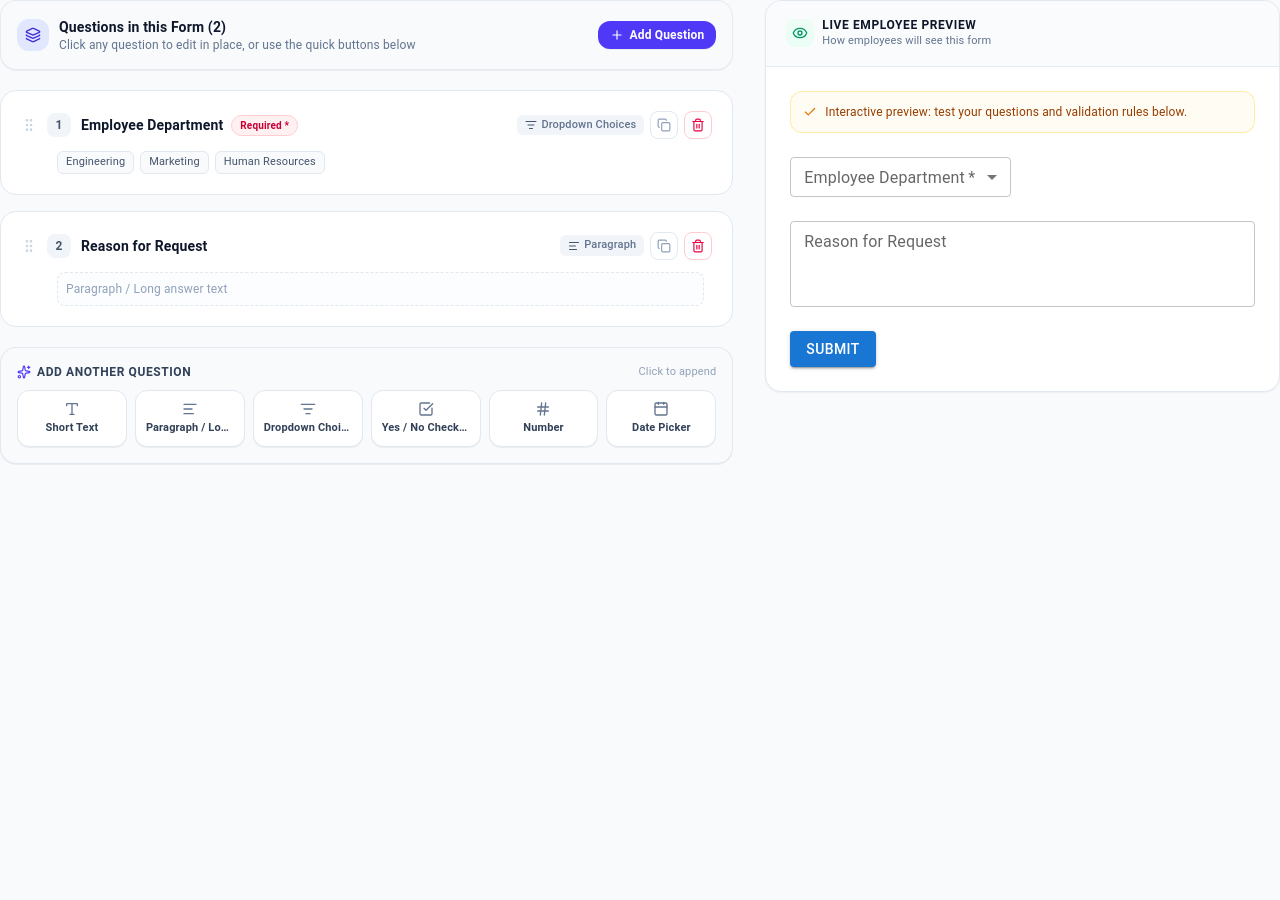
Test case: SchemaBuilder Component › allows duplicating a question like Google Forms
Expected: the heading "Questions in this Form (2)" is shown, left=59, top=19, right=226, bottom=35
Click the button titled "Duplicate Question" in the row of "Required *".
click(664, 125)  # box left=650, top=111, right=678, bottom=139
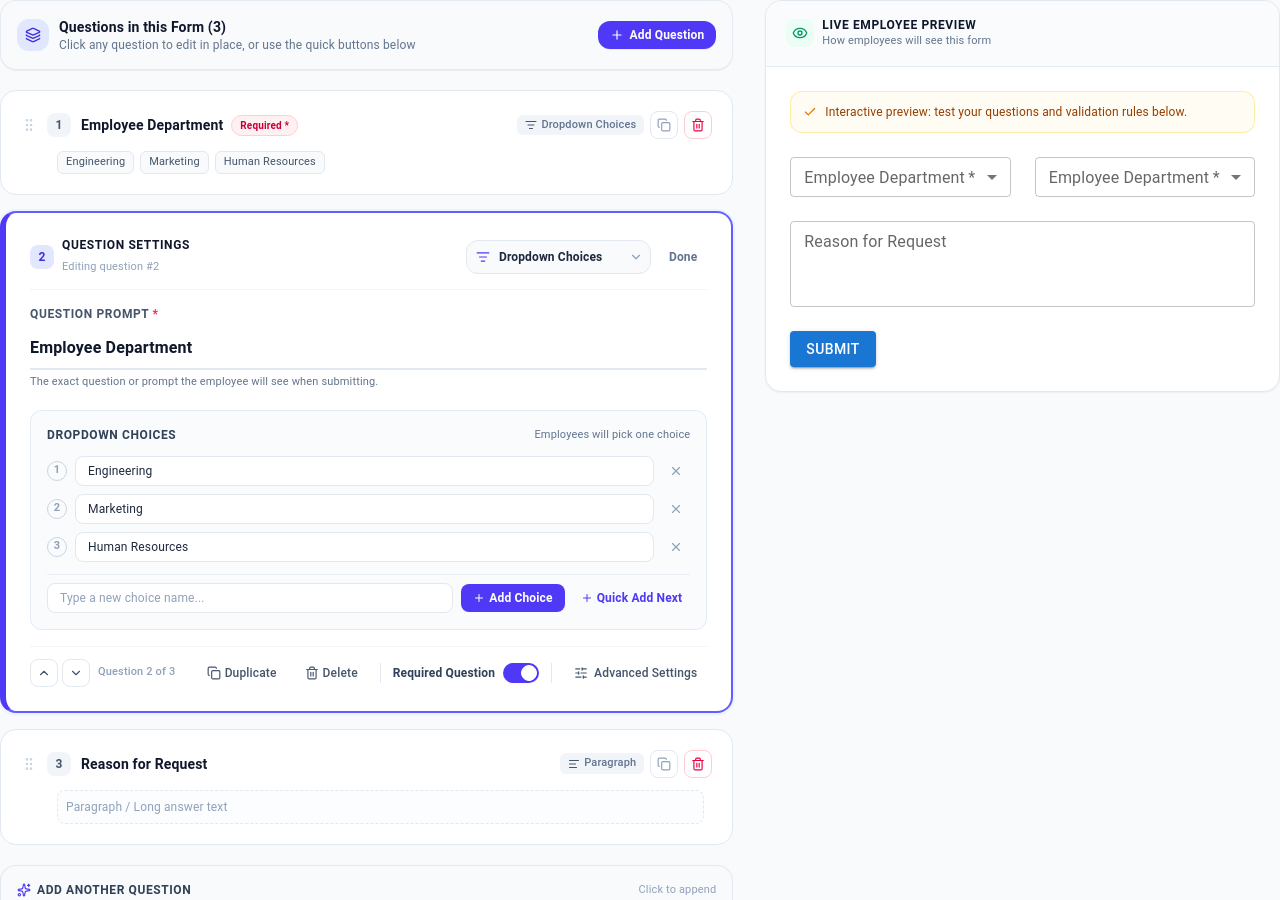
Result: the heading "Questions in this Form (3)" is shown at left=59, top=19, right=226, bottom=35
